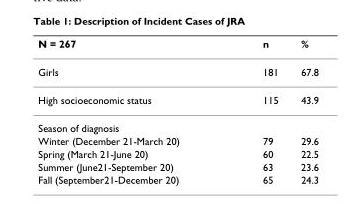table: (37, 37, 318, 185)
table column: (37, 37, 220, 185), (220, 37, 288, 185), (288, 37, 318, 185)
table column header: (37, 37, 318, 57)
table projected row header: (37, 113, 318, 134)
table row: (37, 57, 318, 85), (37, 85, 318, 113), (37, 113, 318, 134), (37, 37, 318, 57), (37, 146, 318, 159), (37, 159, 318, 172), (37, 172, 318, 185), (37, 134, 318, 146)
